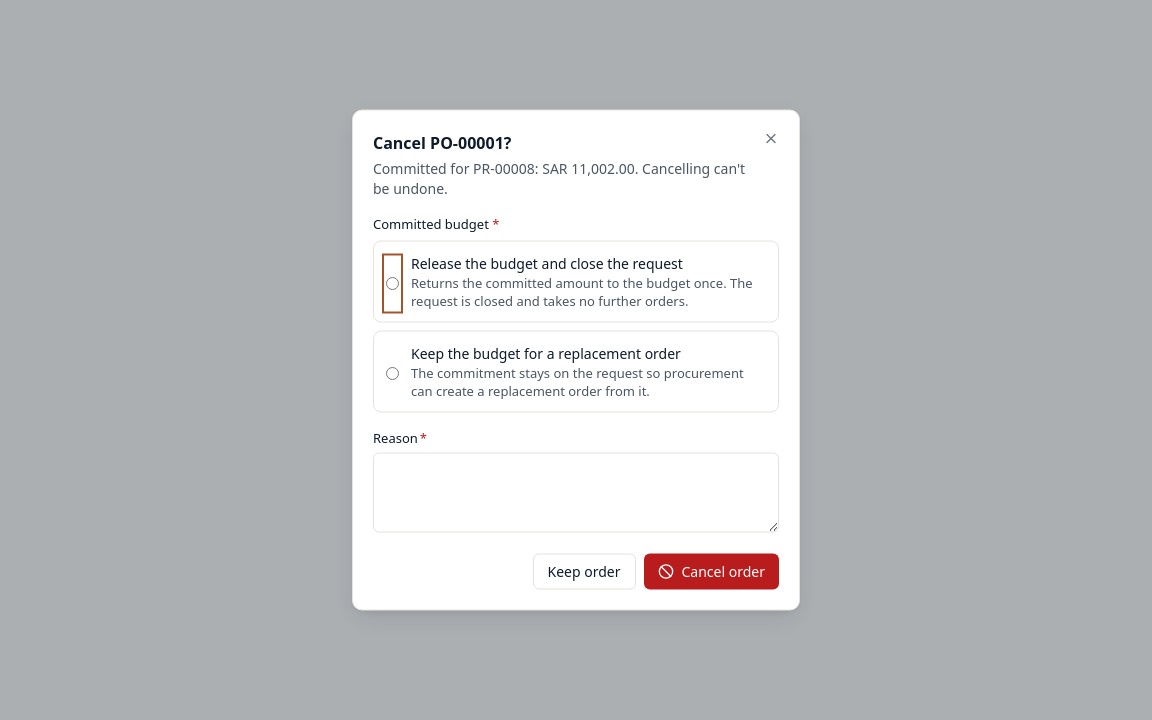
Test case: cancel order dialog › requires an explicit budget decision and a reason before calling the API
This screenshot has width=1152, height=720.
Click the button "Cancel order". click: x=711, y=572
box: [644,554,779,590]
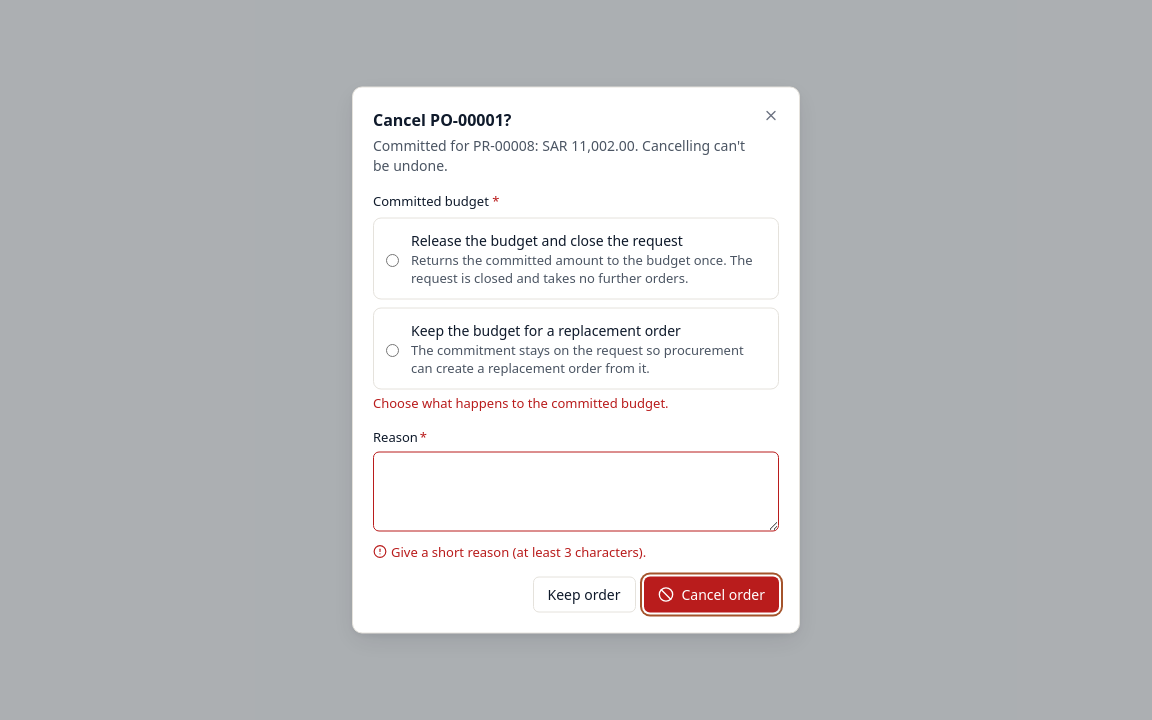
Now the text "Choose what happens to the committed budget." is shown, box [373,394,669,412]
Now the text "Give a short reason (at least 3 characters)." is shown, box [373,542,646,560]
